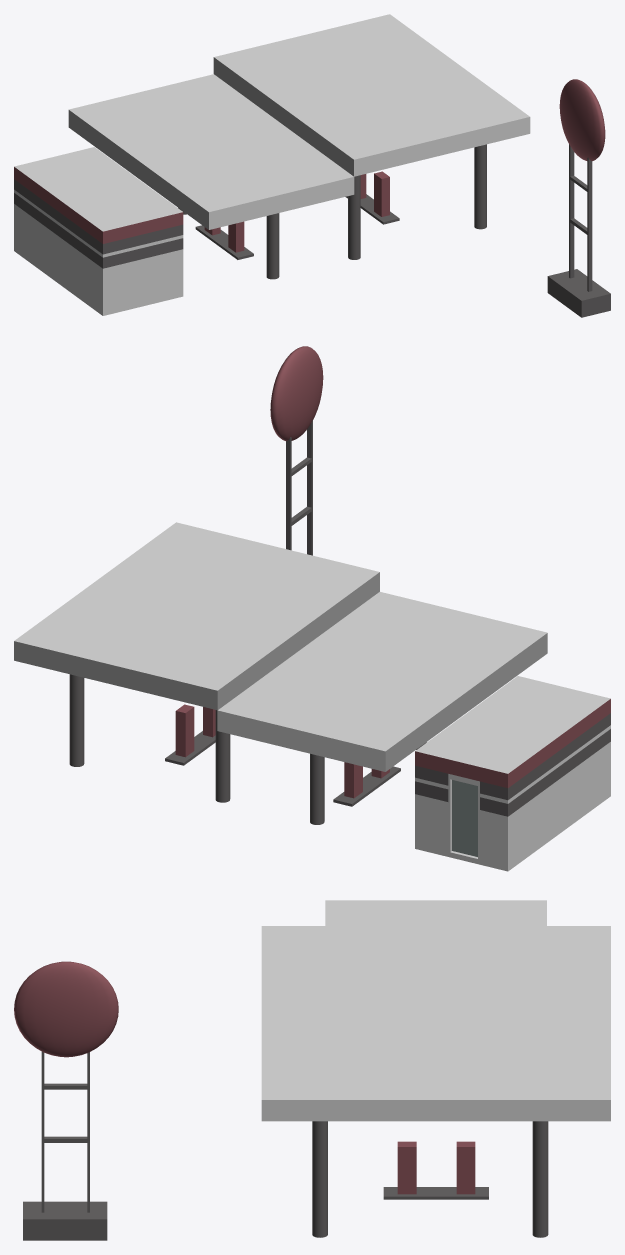
File: Gas_Station.fbx
3 renders of one model, top to bottom at view 1: azimuth 30°, elevation 25°; view 2: azimuth 150°, elevation 25°; view 3: azimuth 270°, elevation 25°, orthographic. The views are drawn at different scales.
Visible parts, largest first — view 1: polySurface3, polySurface1, polySurface2; view 2: polySurface3, polySurface1, polySurface2; view 3: polySurface1, polySurface3, polySurface2.
Boxes of the visible parts, x1,y1,x2,y2 form: polySurface3: (14,79,610,317); polySurface1: (213,14,530,176); polySurface2: (68,74,354,229); polySurface3: (69,346,610,871); polySurface1: (14,522,379,710); polySurface2: (217,592,547,771); polySurface1: (261,993,610,1121); polySurface3: (14,900,548,1240); polySurface2: (261,926,610,992).
Size of the model in its own units: 24.79 by 12.91 by 25.62.
